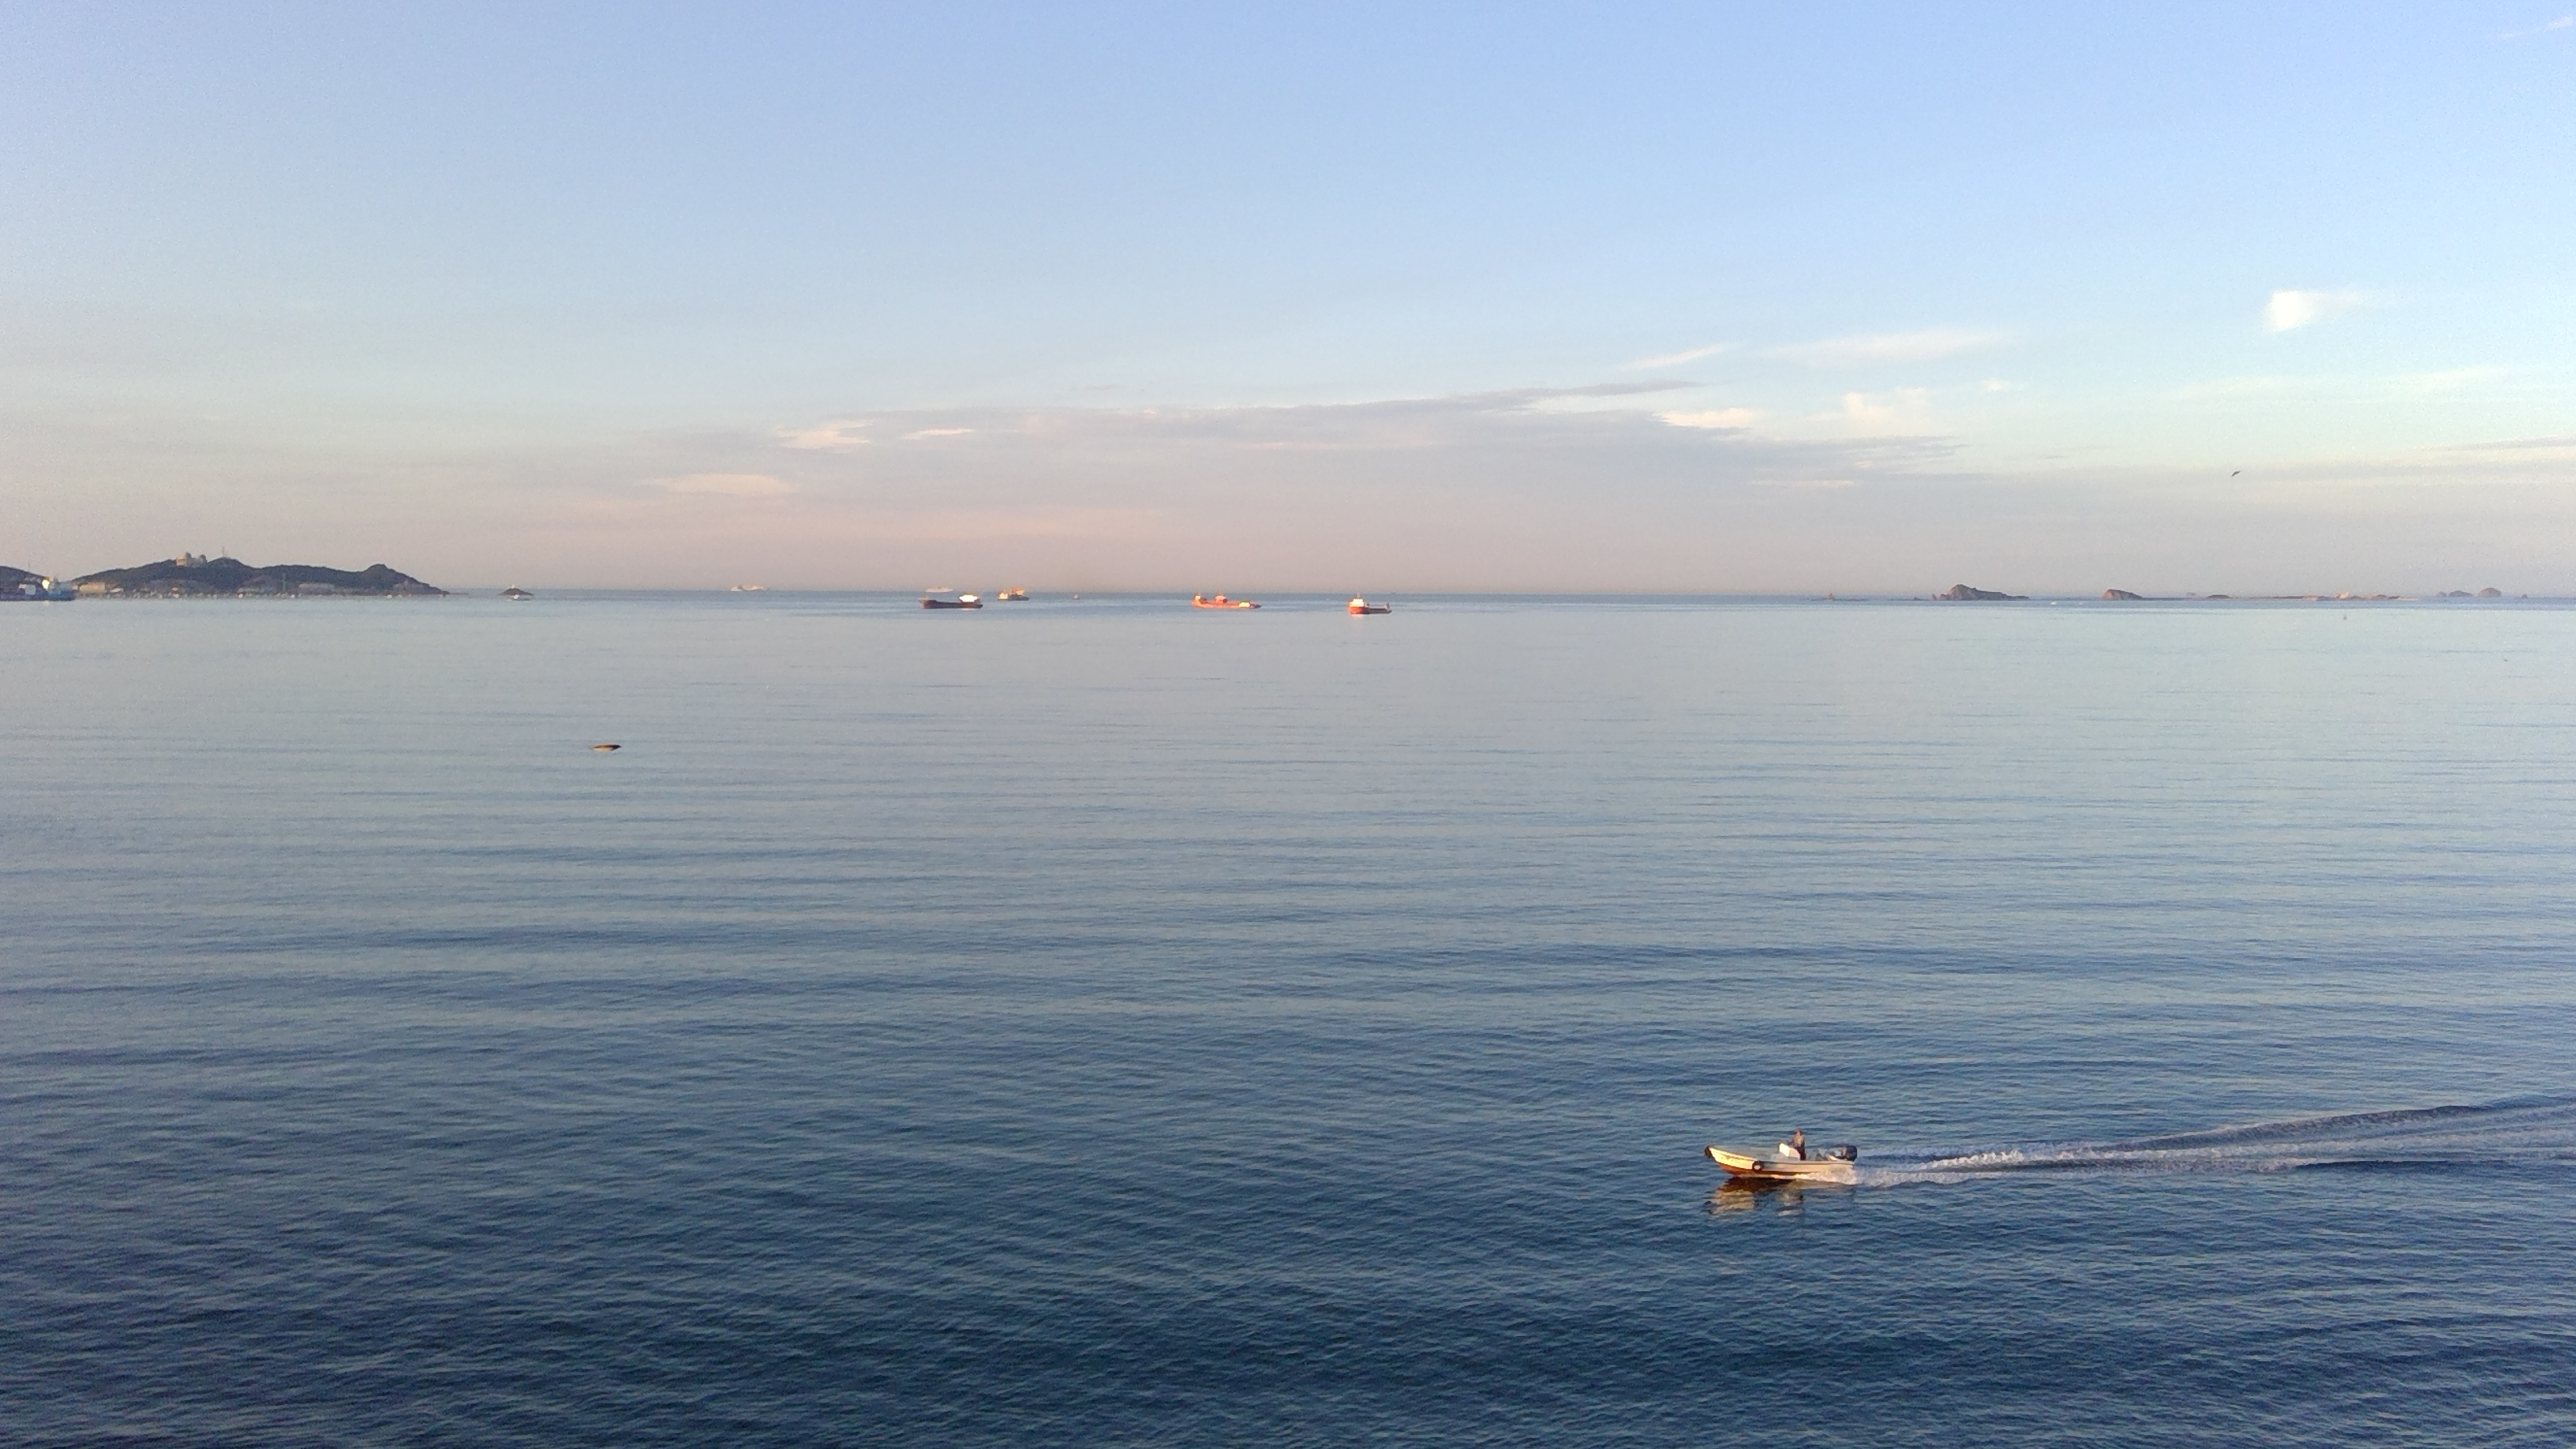boat: (1667, 1106, 1905, 1212)
rock: (78, 545, 444, 605), (0, 534, 71, 626), (1928, 571, 2033, 619), (2098, 580, 2144, 617)
ship: (916, 579, 985, 617), (1189, 589, 1263, 616), (1332, 589, 1391, 619)
